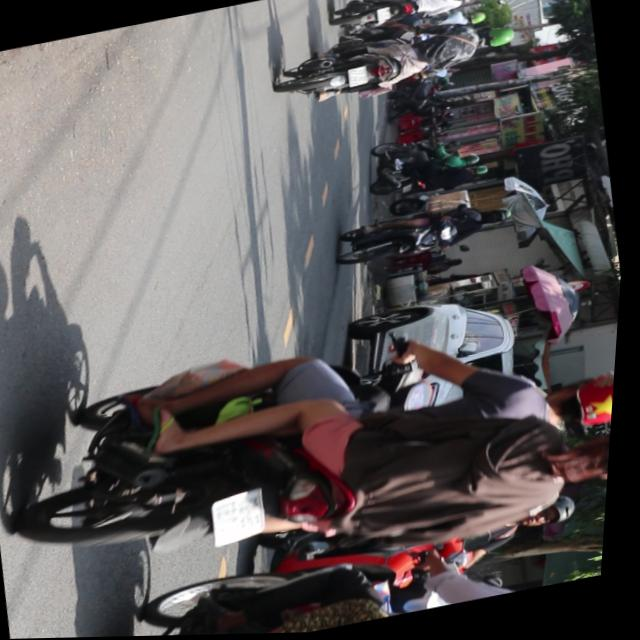helmet: (545, 371, 620, 440), (556, 425, 617, 498), (525, 496, 586, 534), (477, 26, 518, 53)
licenseplate: (0, 281, 625, 616), (76, 496, 613, 638), (271, 12, 525, 116)
nohelmet: (215, 489, 276, 548), (347, 67, 371, 89)
